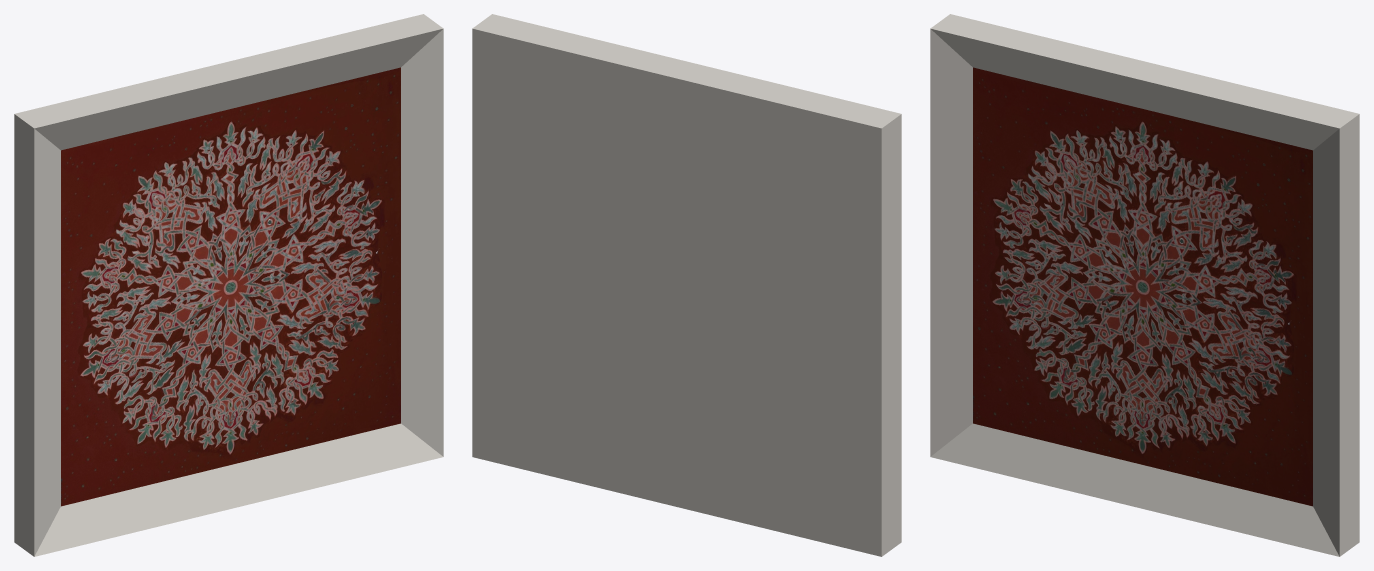
The model's file is slipper-orchids-orchids30-garnet-red-a3-white-v2.glb.
3 views of the same model, side by side, from view 1: azimuth 30°, elevation 25°; view 2: azimuth 150°, elevation 25°; view 3: azimuth 330°, elevation 25° (orthographic).
Parts seen in each view (by area): view 1: FramedPrint; view 2: FramedPrint; view 3: FramedPrint.
Part boxes in pixels (bbox=[...]): FramedPrint: bbox=[14, 14, 443, 556]; FramedPrint: bbox=[472, 14, 901, 556]; FramedPrint: bbox=[930, 14, 1359, 556].
Bounding box in the file's own units: 0.355 × 0.355 × 0.03.
Materials: 2 (1 with a texture image).
